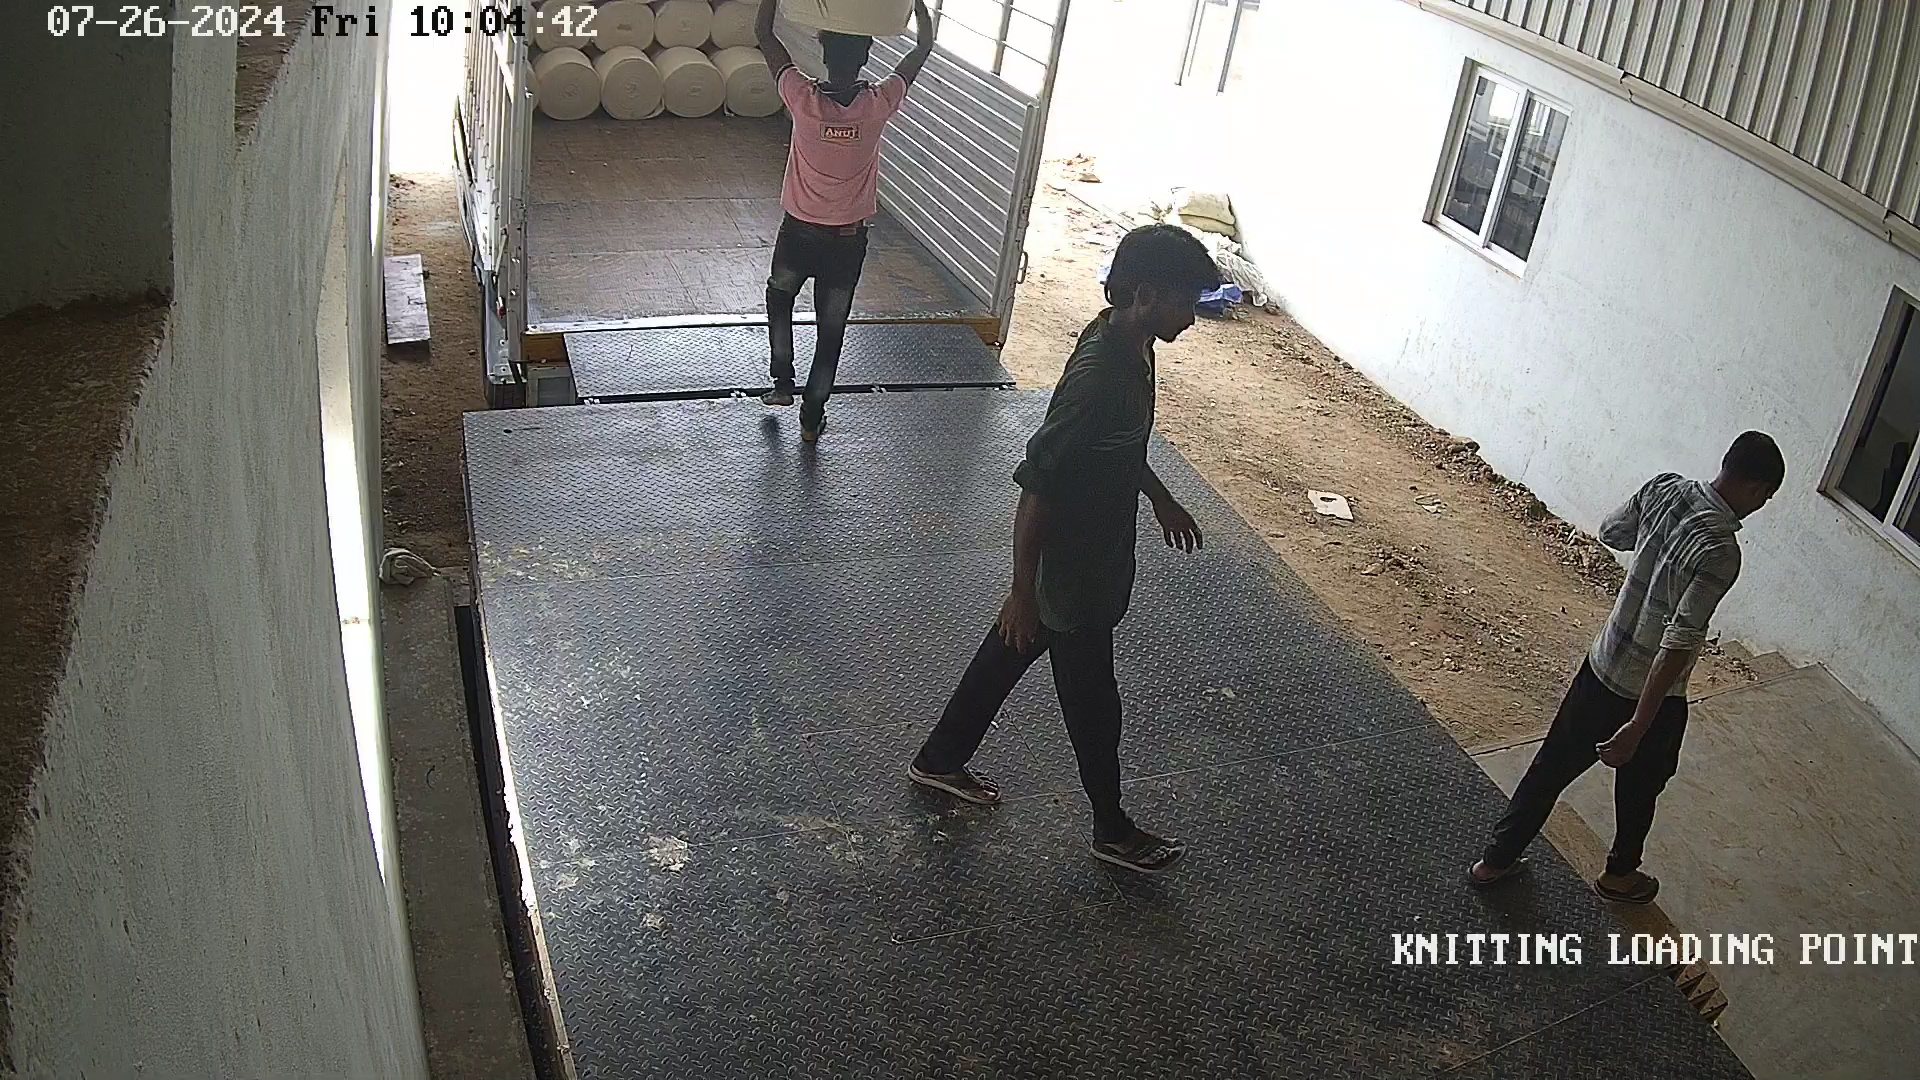bag: (770, 8, 938, 45)
